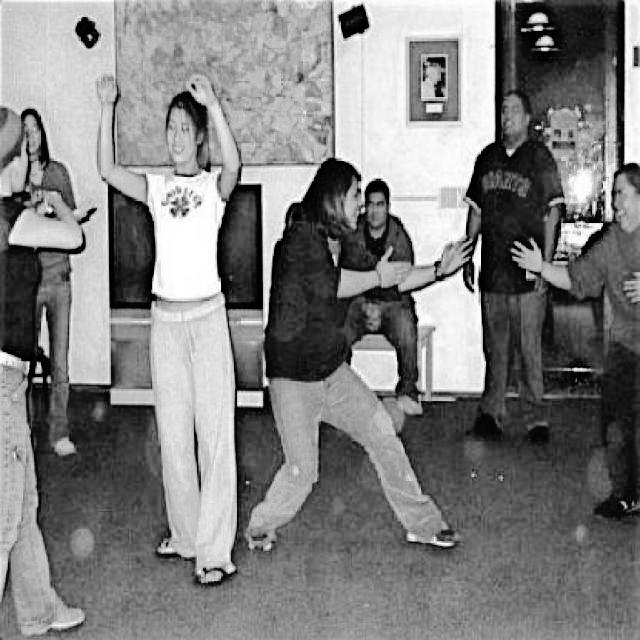Person: (243, 156, 462, 558), (96, 68, 242, 596), (514, 158, 640, 520), (0, 100, 83, 640), (461, 87, 549, 446), (23, 103, 83, 463), (356, 175, 425, 420)
